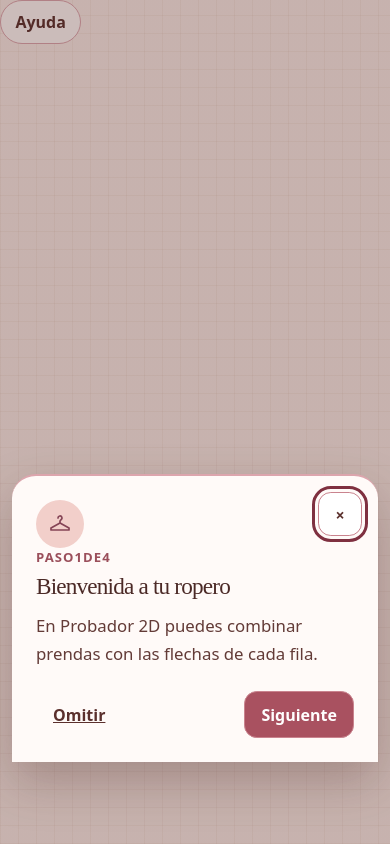
Scenario: WardrobeTutorial › continues in memory when preference storage cannot be read or written
Expected: the dialog is shown, [12,474,378,762]
Click the button "Omitir": (79, 715) [36,691,122,738]
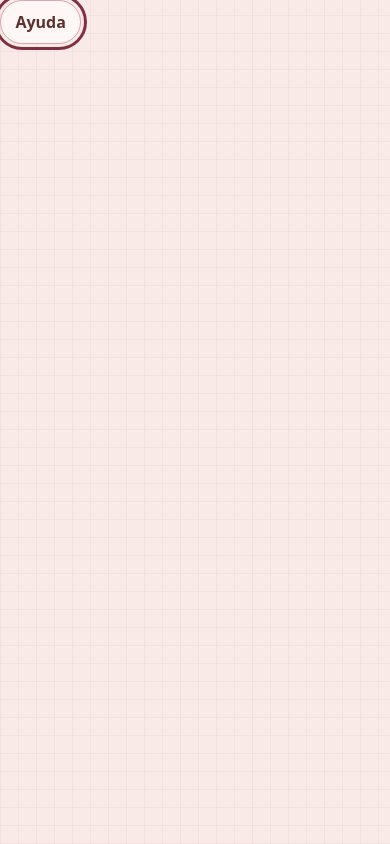
Now the dialog is gone
Click the button "Ayuda": (41, 22) [0,0,81,44]
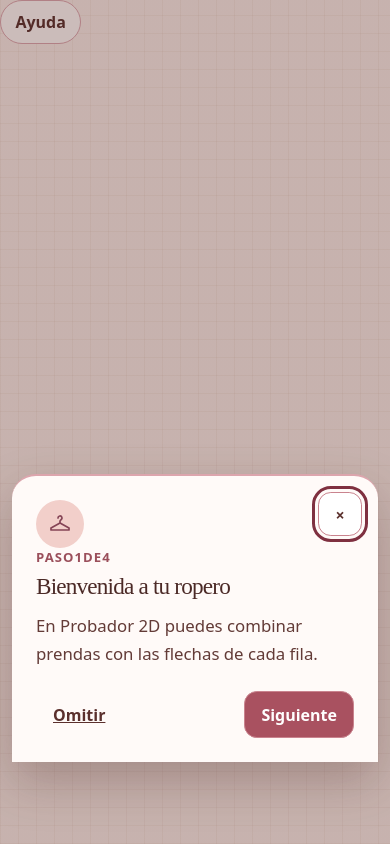
Now the dialog is shown, box [12,474,378,762]
